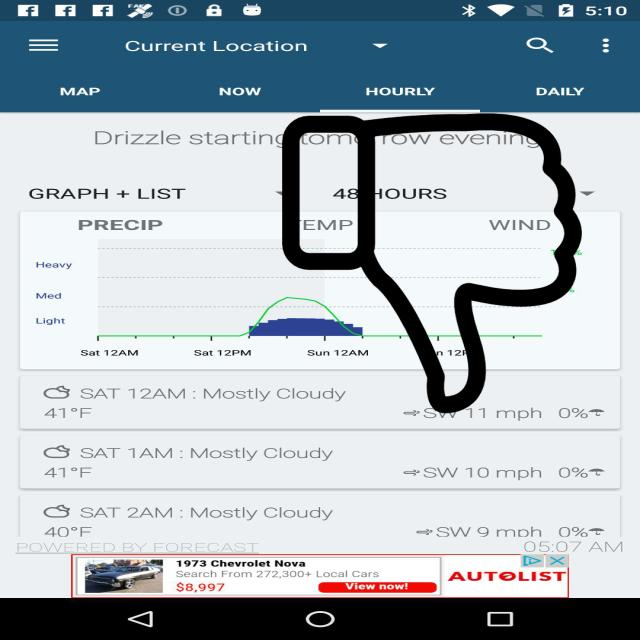obstruction: (278, 114, 586, 414)
